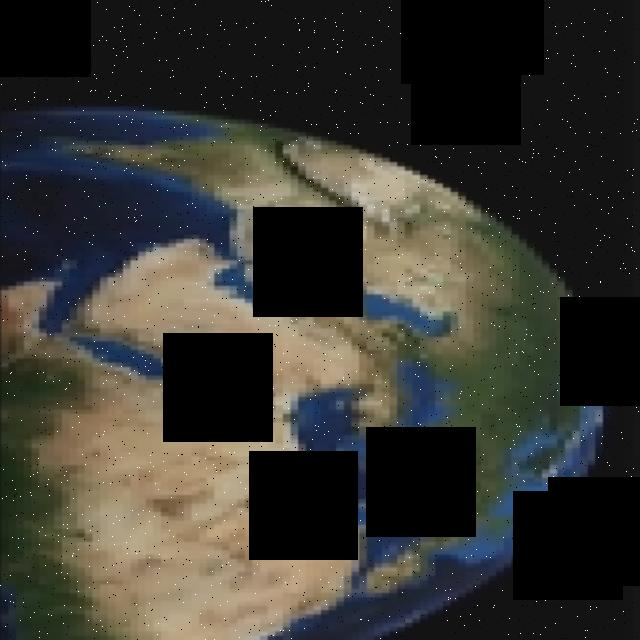Earth: (0, 107, 602, 640)
